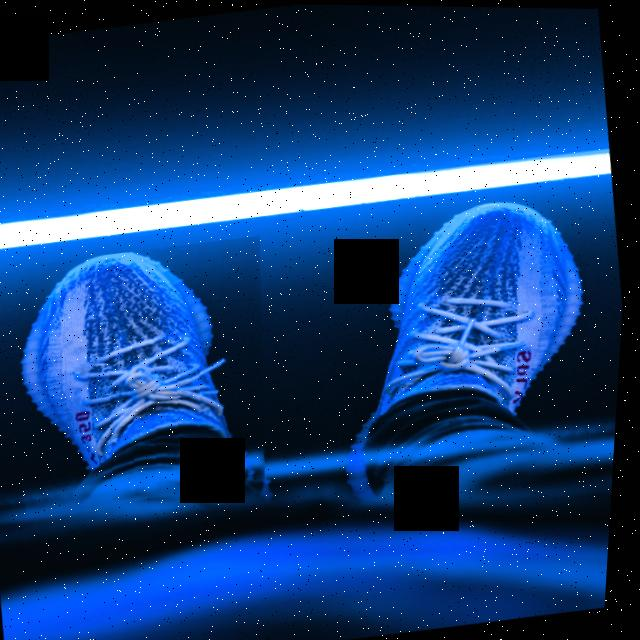shoe: (314, 181, 624, 513), (0, 232, 299, 522)
